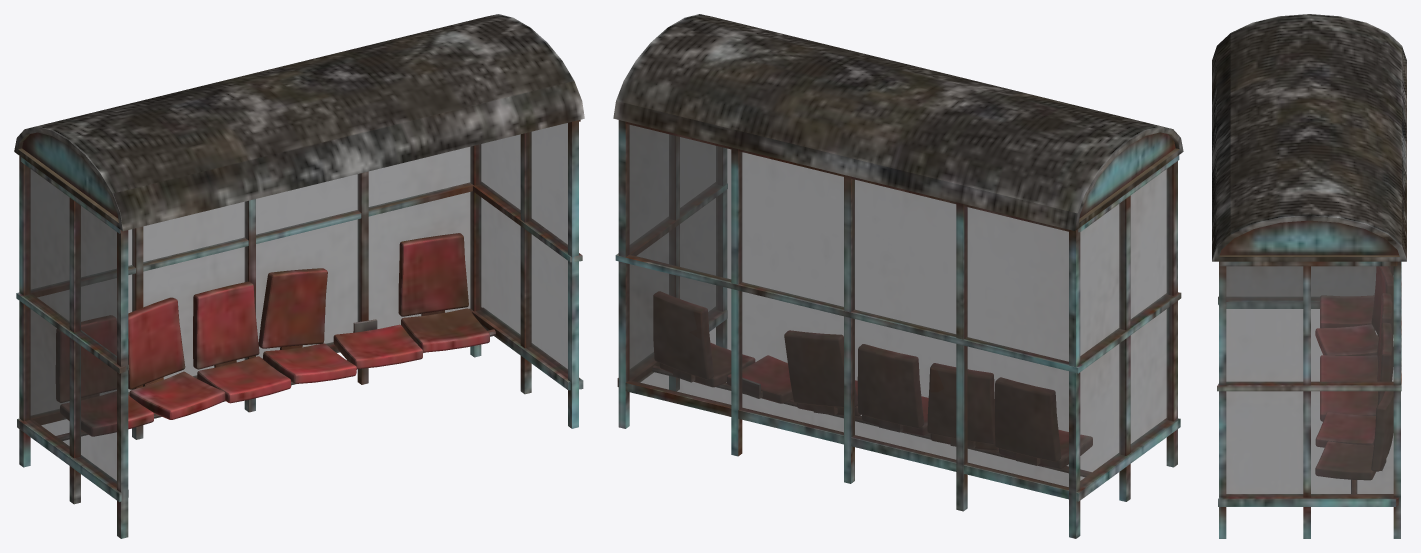
Rendered from bus_stop.gltf.
3 views of the same model, side by side, from view 1: azimuth 30°, elevation 25°; view 2: azimuth 150°, elevation 25°; view 3: azimuth 270°, elevation 25° (orthographic). The views are drawn at different scales.
Parts seen in each view (by area): view 1: Body; view 2: Body; view 3: Body.
Part boxes in pixels (<box>): Body: <box>14,14,584,538</box>; Body: <box>613,14,1183,538</box>; Body: <box>1212,14,1406,538</box>.
Size of the model in its own units: 3.61 by 2.69 by 1.46.
5 materials, 5 textured.
